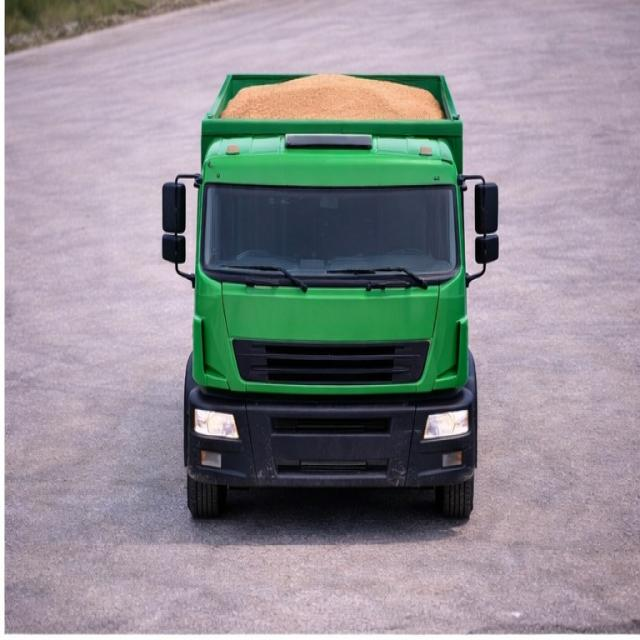trailer: (202, 57, 472, 176)
truck: (154, 35, 503, 552)
